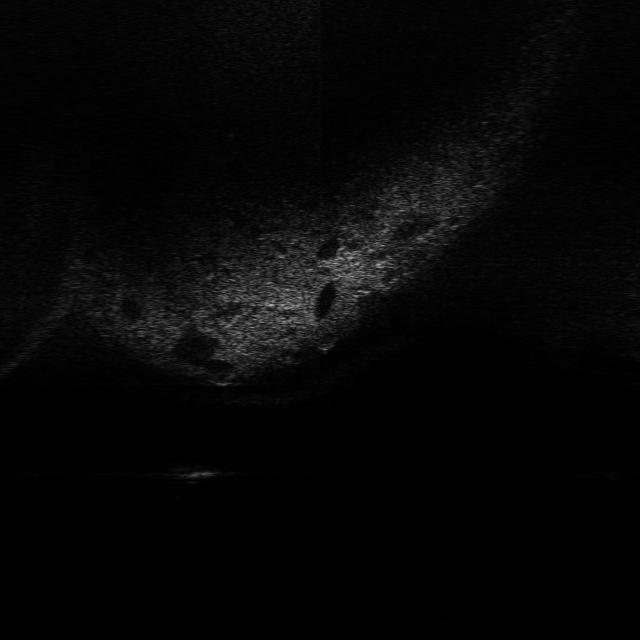ball: (310, 322, 340, 356)
cube: (162, 456, 223, 484)
